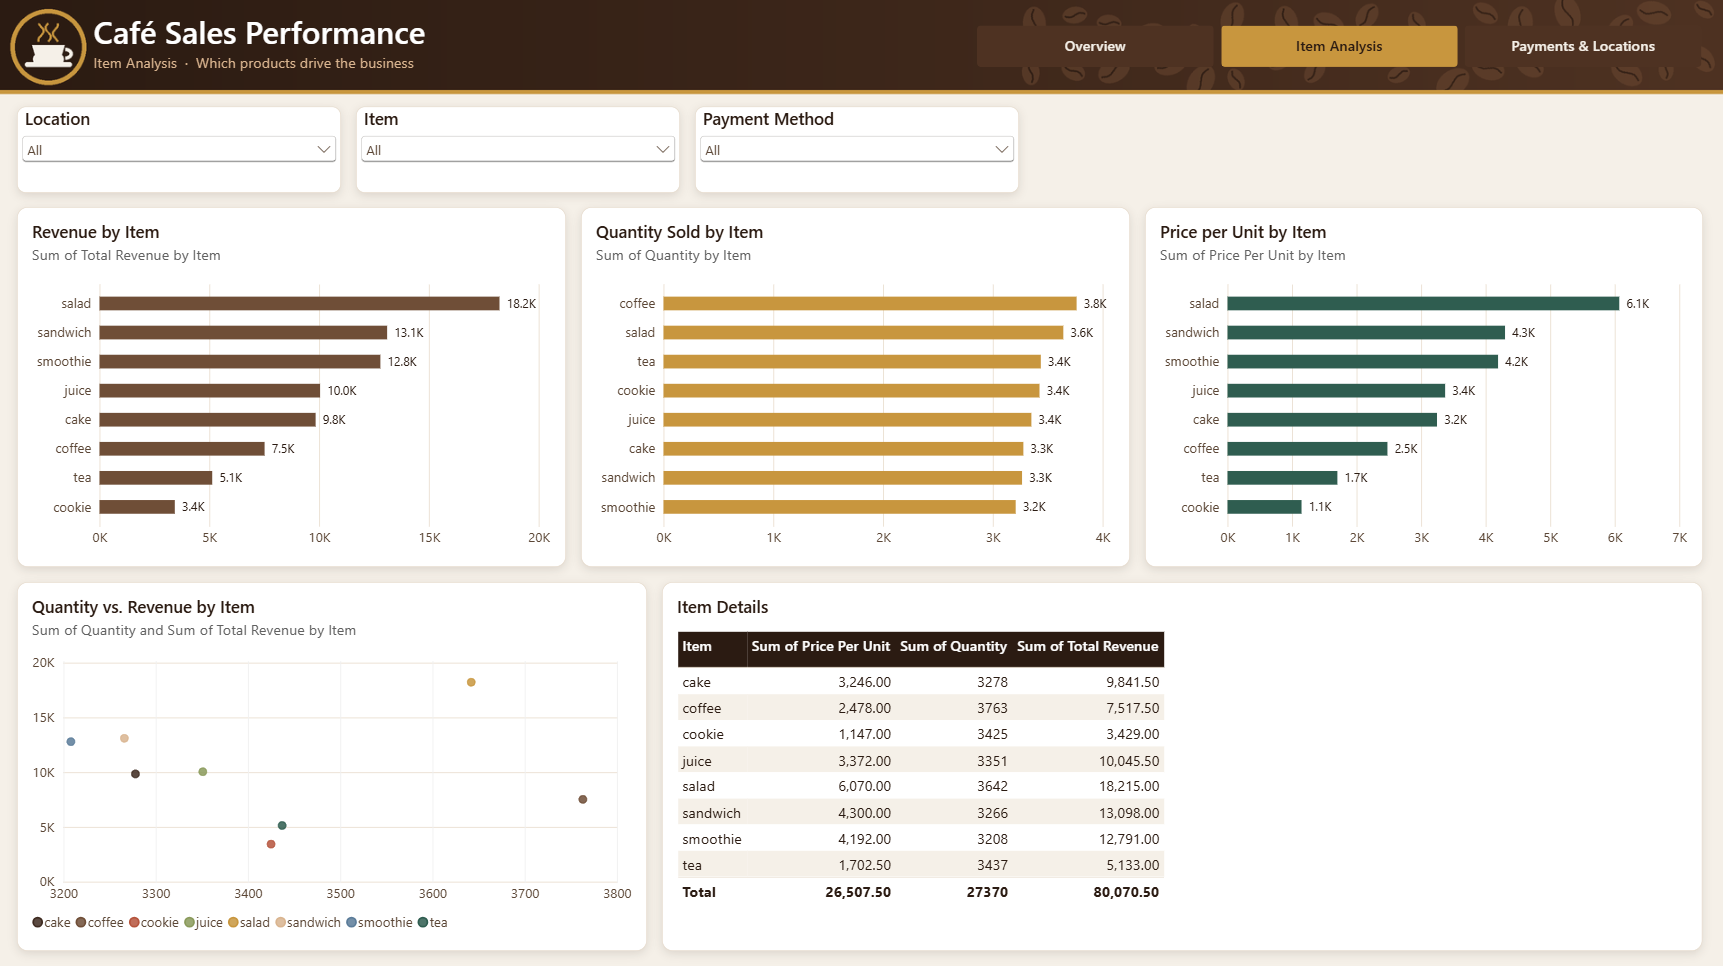

What the dashboard file says about the page in this screenshot:
{"tool":"powerbi","page":{"name":"Item Analysis","canvas":[1920,1080],"ordinal":1},"visuals":[{"type":"clusteredBarChart","title":"Revenue by Item","fields":{"Category":["cleaned_cafe-dataset.Item"],"Y":["Sum(cleaned_cafe-dataset.Total Revenue)"]},"box":[24,230,610,400],"z":10},{"type":"clusteredBarChart","title":"Quantity Sold by Item","fields":{"Category":["cleaned_cafe-dataset.Item"],"Y":["Sum(cleaned_cafe-dataset.Quantity)"]},"box":[650,230,610,400],"z":11},{"type":"clusteredBarChart","title":"Price per Unit by Item","fields":{"Category":["cleaned_cafe-dataset.Item"],"Y":["Sum(cleaned_cafe-dataset.Price Per Unit)"]},"box":[1276,230,620,400],"z":12},{"type":"scatterChart","title":"Quantity vs. Revenue by Item","fields":{"Series":["cleaned_cafe-dataset.Item"],"X":["Sum(cleaned_cafe-dataset.Quantity)"],"Y":["Sum(cleaned_cafe-dataset.Total Revenue)"]},"box":[24,646,700,410],"z":13},{"type":"tableEx","title":"Item Details","fields":{"Values":["cleaned_cafe-dataset.Item","Sum(cleaned_cafe-dataset.Price Per Unit)","Sum(cleaned_cafe-dataset.Quantity)","Sum(cleaned_cafe-dataset.Total Revenue)"]},"box":[740,646,1156,410],"z":14},{"type":"slicer","fields":{"Values":["cleaned_cafe-dataset.Location"]},"box":[24,118,360,96],"z":20},{"type":"slicer","fields":{"Values":["cleaned_cafe-dataset.Item"]},"box":[400,118,360,96],"z":21},{"type":"slicer","fields":{"Values":["cleaned_cafe-dataset.Payment Method"]},"box":[776,118,360,96],"z":22},{"type":"textbox","box":[108,12,900,48],"z":30},{"type":"textbox","box":[108,58,960,30],"z":31},{"type":"pageNavigator","box":[1090,28,806,46],"z":32}]}

Visuals, with their boxes in screenshot pixels (x1, y1, x2, y2), scaled from the page's 1920x1080 canvas onto the 1723x966 screenshot:
"Revenue by Item" clusteredBarChart: BBox(22, 206, 569, 564)
"Quantity Sold by Item" clusteredBarChart: BBox(583, 206, 1131, 564)
"Price per Unit by Item" clusteredBarChart: BBox(1145, 206, 1701, 564)
"Quantity vs. Revenue by Item" scatterChart: BBox(22, 578, 650, 945)
"Item Details" tableEx: BBox(664, 578, 1701, 945)
slicer - cleaned_cafe-dataset.Location: BBox(22, 106, 345, 191)
slicer - cleaned_cafe-dataset.Item: BBox(359, 106, 682, 191)
slicer - cleaned_cafe-dataset.Payment Method: BBox(696, 106, 1019, 191)
textbox: BBox(97, 11, 905, 54)
textbox: BBox(97, 52, 958, 79)
pageNavigator: BBox(978, 25, 1701, 66)
